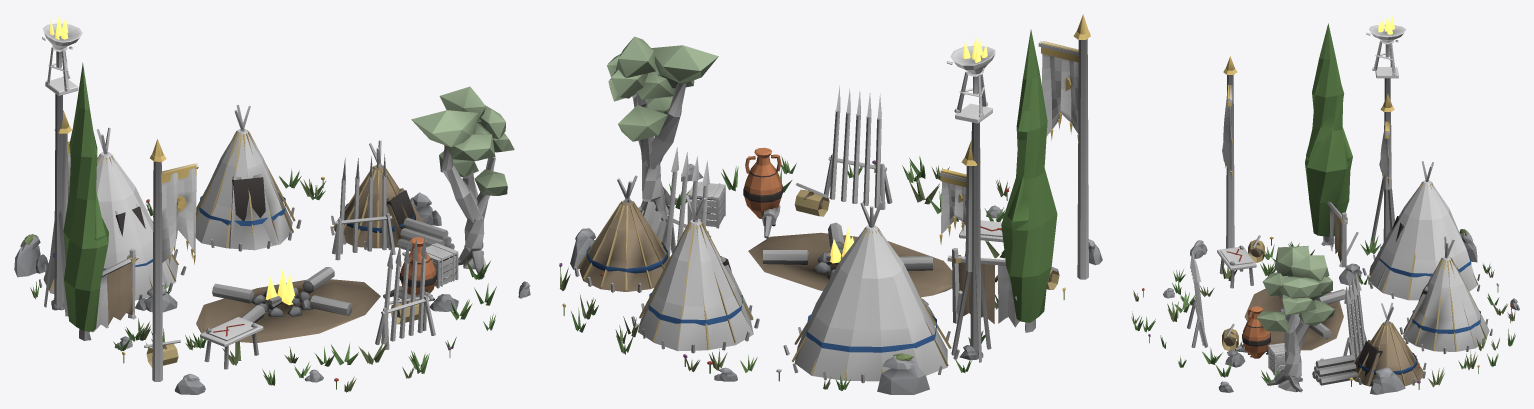
The model's file is scout-camp-l2.glb.
The picture shows the model from 3 angles, left to right: view 1: azimuth 30°, elevation 25°; view 2: azimuth 150°, elevation 25°; view 3: azimuth 270°, elevation 25°; orthographic projection. The views are drawn at different scales.
Visible parts, largest first — view 1: scout-camp-l2; view 2: scout-camp-l2; view 3: scout-camp-l2.
Boxes of the visible parts, left/top/right/bottom form: scout-camp-l2: left=14, top=14, right=530, bottom=394; scout-camp-l2: left=559, top=14, right=1102, bottom=394; scout-camp-l2: left=1131, top=15, right=1519, bottom=394.
Bounding box in the file's own units: 1.59 × 1.08 × 1.6.
